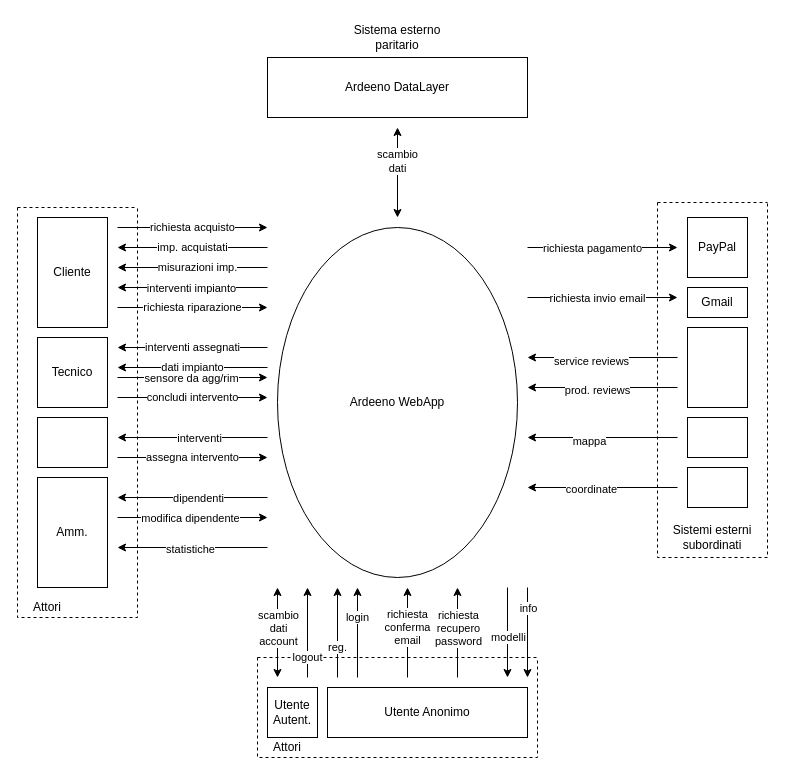
Image size: 785x775. Some labels were removed from this diagram. Each missing label, with the centre of its shape:
"GPS" goes at pixel 717 487.
"OSM" goes at pixel 717 437.
"Supervisore" goes at pixel 72 442.
"TrustPilot" goes at pixel 717 367.
